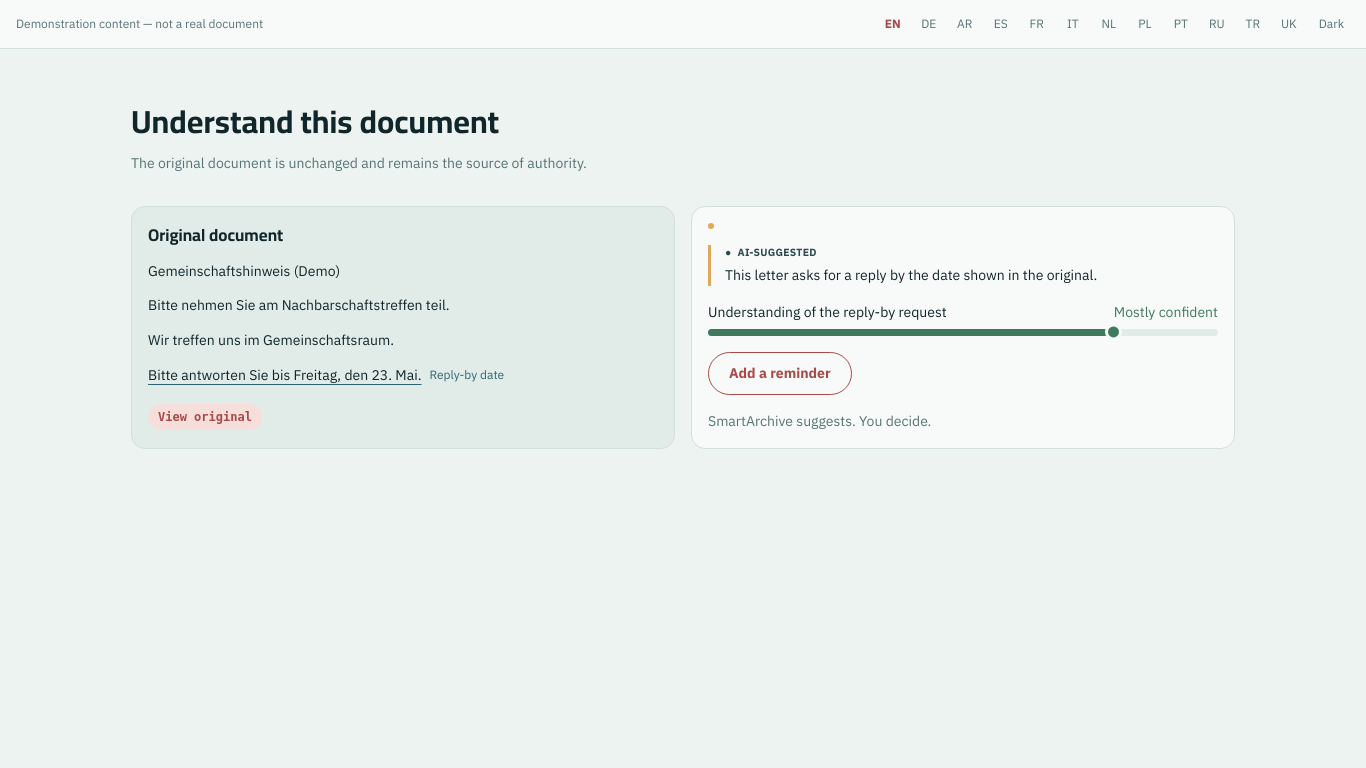
Scenario: DocumentUnderstanding (HSA-08) › cancels the suggestion without executing it
What coordinates should you click on to do the following:
click the button "Add a reminder"
I would click on:
 (780, 373)
Its box is [708,352,852,395].
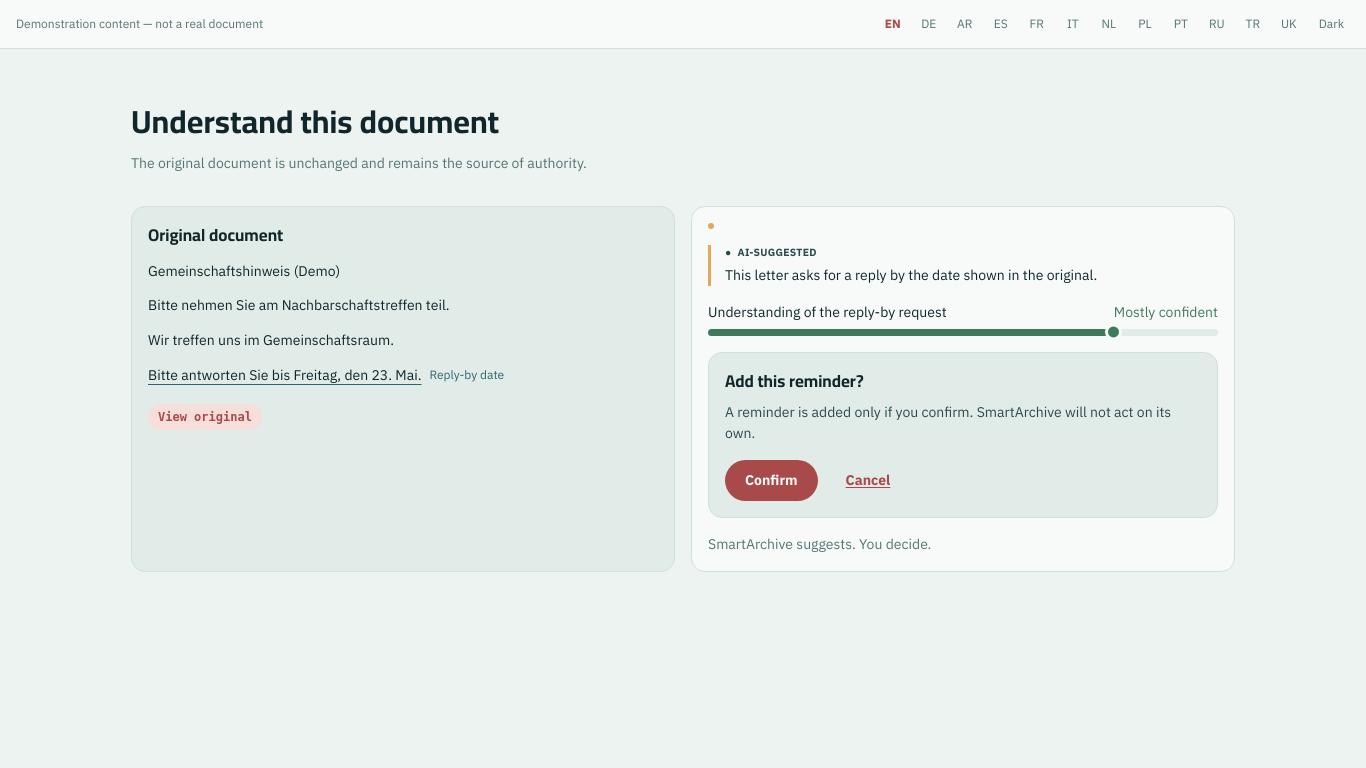
What coordinates should you click on to do the following:
click the button "Cancel"
I would click on:
 (868, 481)
Its box is [826,460,910,501].
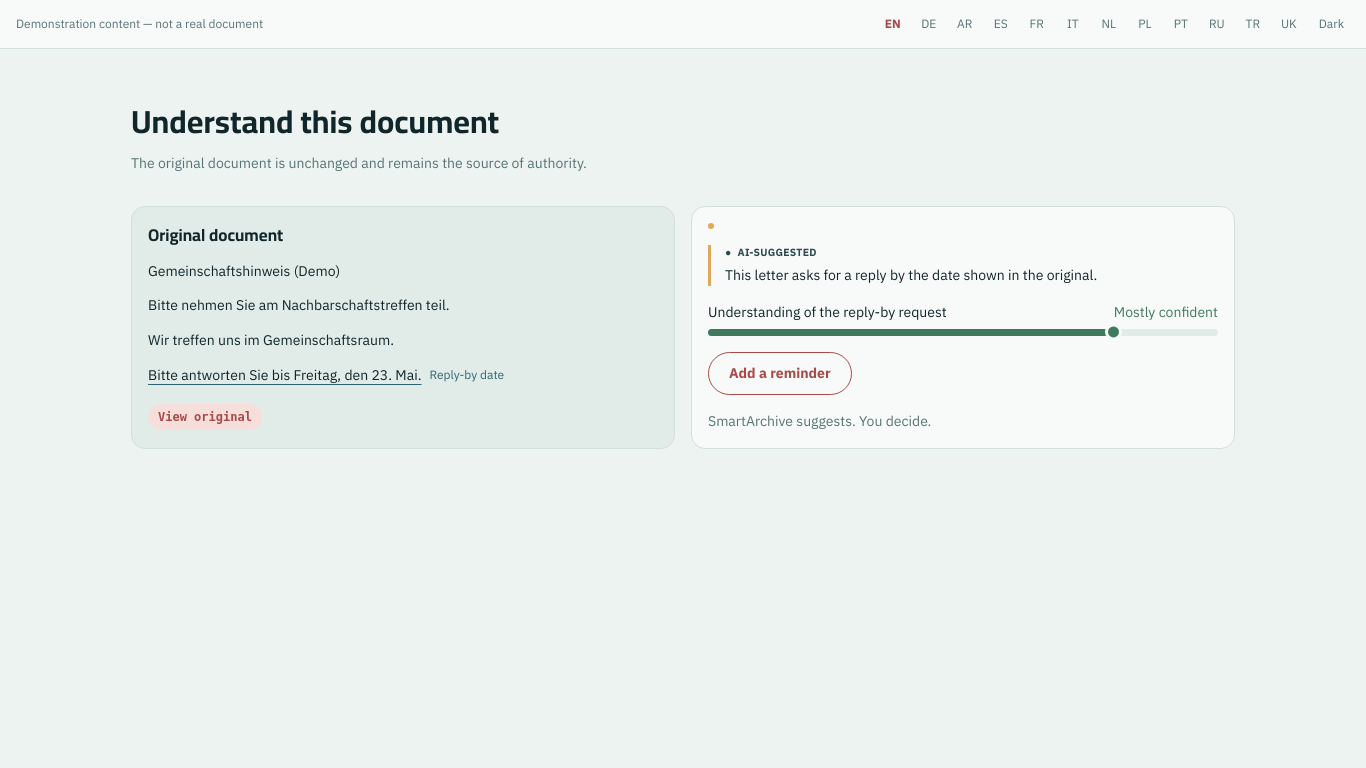
Expected: the dialog is gone
Expected: the button "Add a reminder" is shown, [708,352,852,395]
